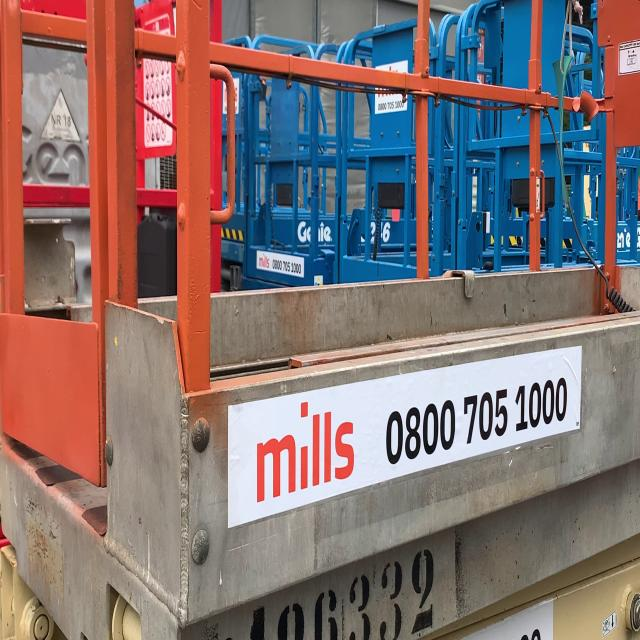Adesivo Longo: (226, 339, 584, 536)
